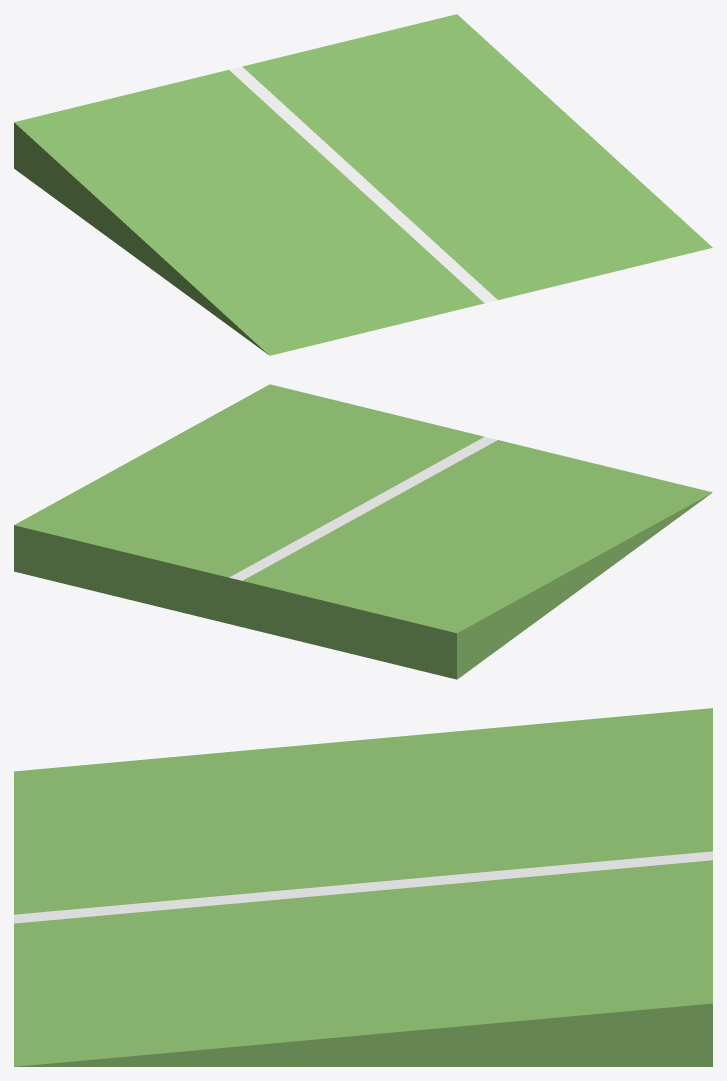
Rendered from slope2.dae.
The picture shows the model from 3 angles, top to bottom: view 1: azimuth 30°, elevation 25°; view 2: azimuth 150°, elevation 25°; view 3: azimuth 270°, elevation 25°; orthographic projection. The views are drawn at different scales.
Visible parts, largest first — view 1: instance_0.001, instance_0; view 2: instance_0.001, instance_0; view 3: instance_0.001, instance_0.
Boxes of the visible parts, x1,y1,x2,y2 form: instance_0.001: [14, 14, 712, 355]; instance_0: [229, 66, 497, 303]; instance_0.001: [14, 384, 712, 679]; instance_0: [229, 437, 497, 580]; instance_0.001: [14, 708, 712, 1066]; instance_0: [14, 851, 712, 923].
Bounding box in the file's own units: 1 × 1 × 0.1.
